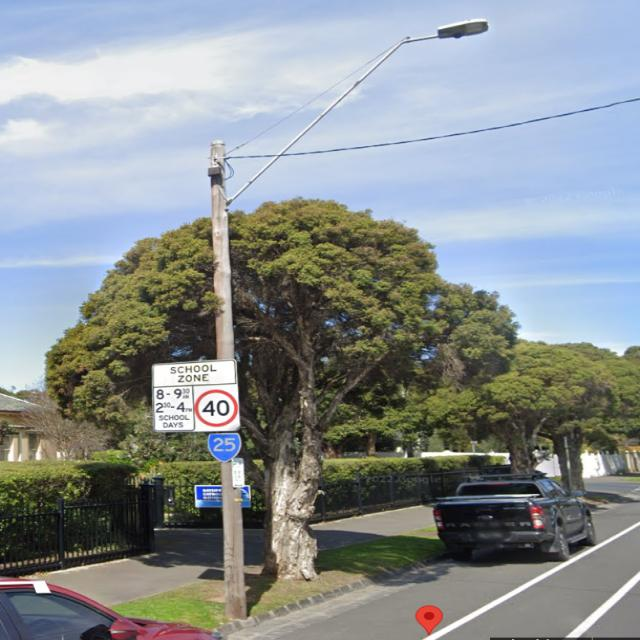streetlight: (221, 17, 490, 207)
timber-pole: (211, 141, 249, 618)
top mount suitable pole: (204, 16, 492, 620)
